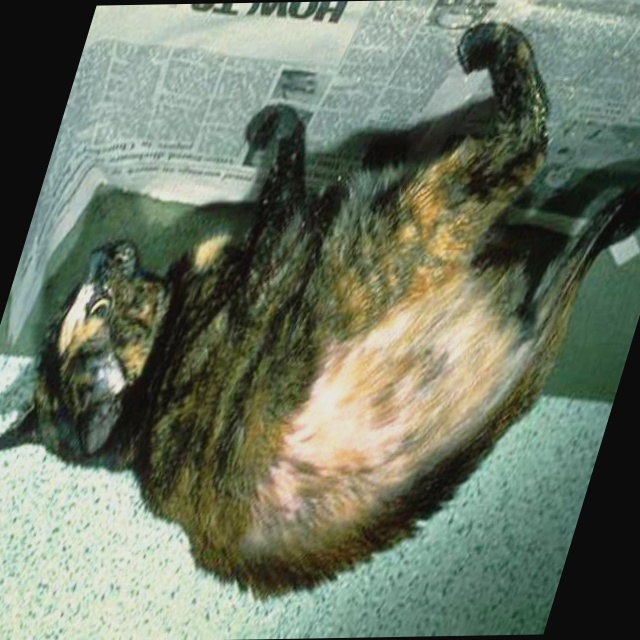hairloss: (275, 329, 537, 513)
